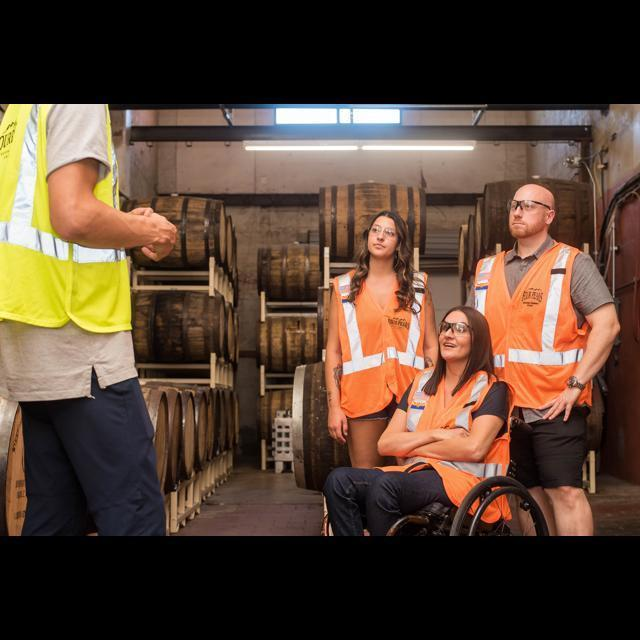Colete: (0, 104, 130, 332), (475, 243, 589, 407), (334, 270, 426, 417), (381, 418, 509, 505)
Pessoa: (0, 104, 176, 534), (474, 184, 619, 534), (323, 306, 511, 535), (325, 211, 436, 467)
